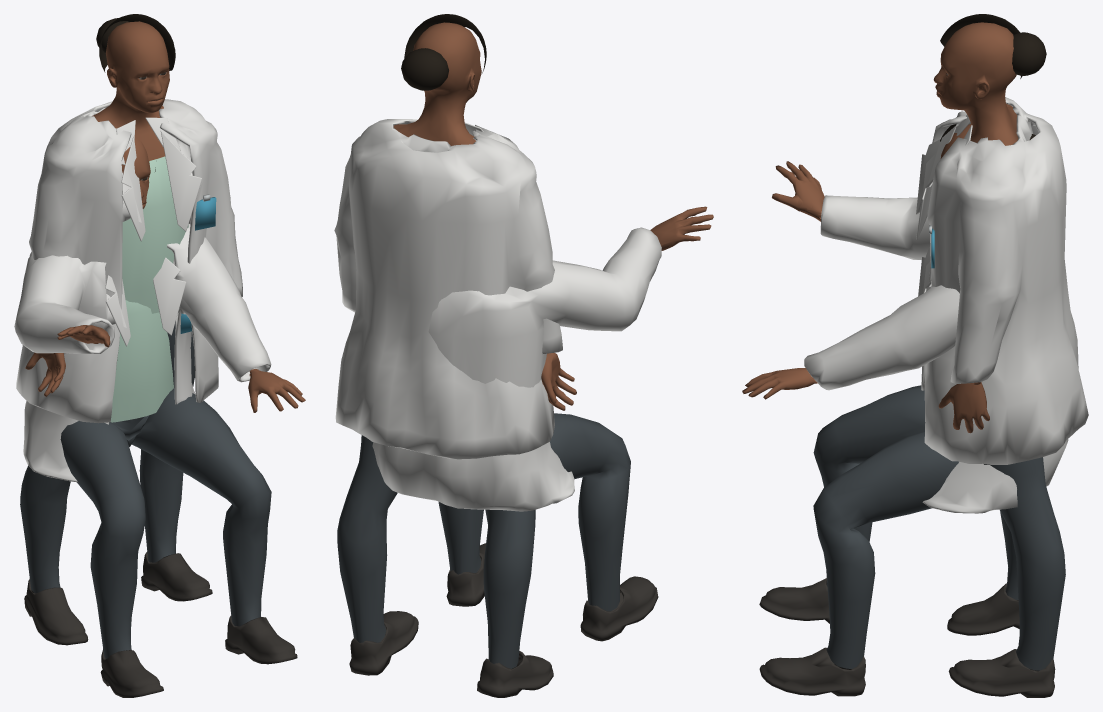
Rendered from doctor-01-middle.glb.
The picture shows the model from 3 angles, left to right: view 1: azimuth 30°, elevation 25°; view 2: azimuth 150°, elevation 25°; view 3: azimuth 270°, elevation 25°; orthographic projection. The views are drawn at different scales.
Visible parts, largest first — view 1: Doctor anatomy and wardrobe.003, Doctor anatomy and wardrobe.001; view 2: Doctor anatomy and wardrobe.001, Doctor anatomy and wardrobe.003; view 3: Doctor anatomy and wardrobe.001, Doctor anatomy and wardrobe.003.
Part boxes in pixels (x1,y1,x2,y2): Doctor anatomy and wardrobe.003: [14, 138, 305, 697]; Doctor anatomy and wardrobe.001: [16, 14, 242, 645]; Doctor anatomy and wardrobe.001: [334, 14, 576, 697]; Doctor anatomy and wardrobe.003: [372, 206, 713, 641]; Doctor anatomy and wardrobe.001: [916, 14, 1088, 697]; Doctor anatomy and wardrobe.003: [742, 124, 1068, 696].
Size of the model in its own units: 0.7805 by 1.71 by 0.8258.
